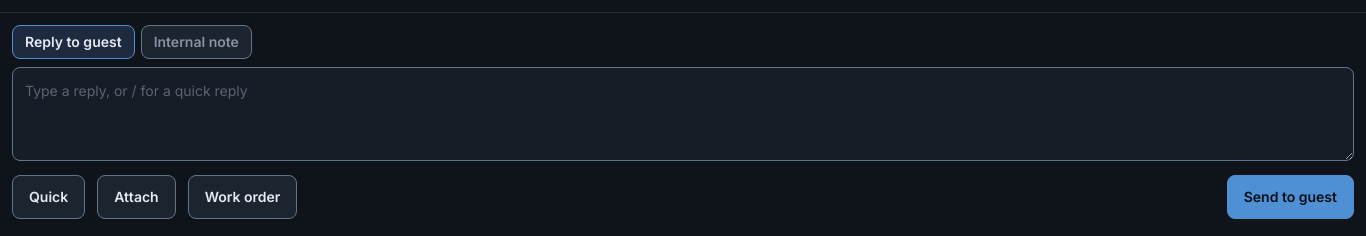
Composer › inserts the server-rendered body, not the raw template
Step 1. Type "/wifi" into the text box → coordinates (683, 114), box top-left (12, 67), bottom-right (1354, 161)
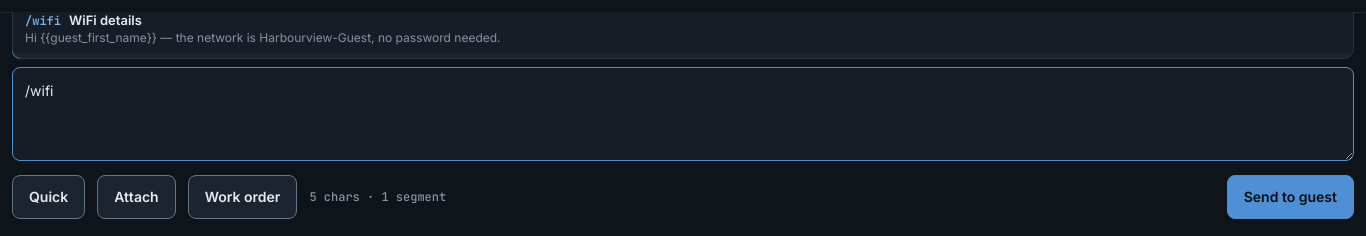
Step 2. Press Enter
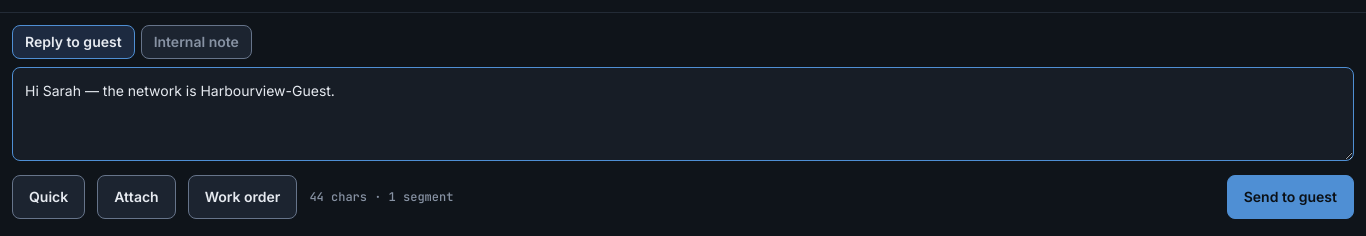
Check: the text box holds "Hi Sarah — the network is Harbourview-Guest.", box top-left (12, 67), bottom-right (1354, 161)
